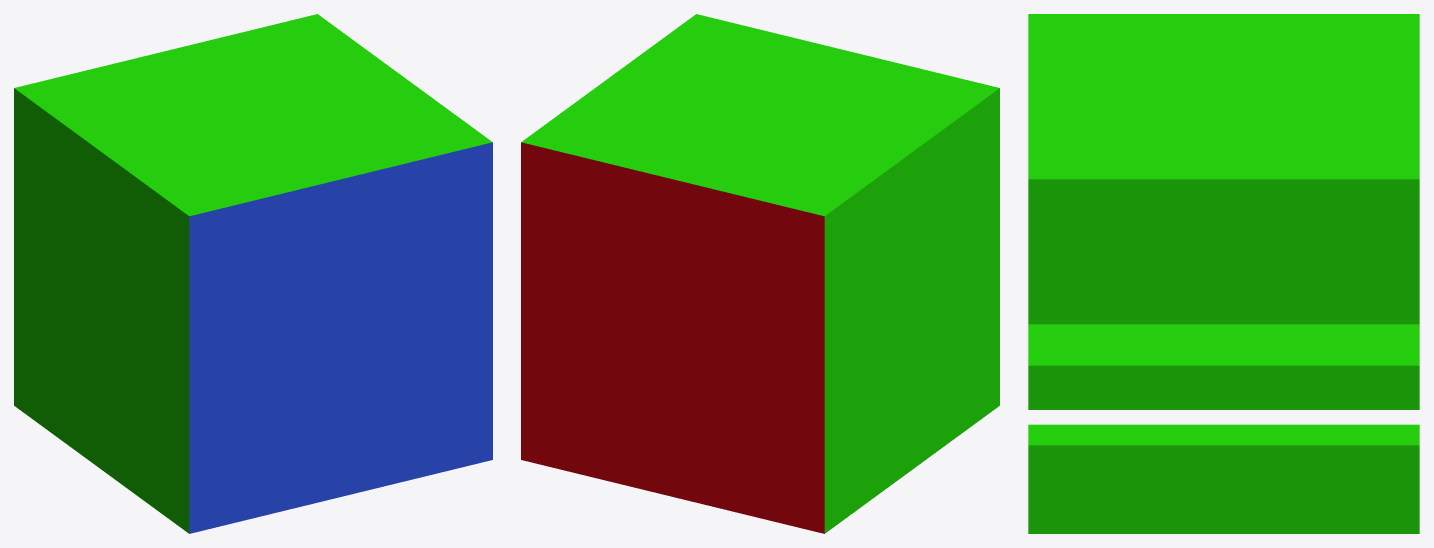
Rendered from Corridor_1U_Left.fbx.
The picture shows the model from 3 angles, left to right: view 1: azimuth 30°, elevation 25°; view 2: azimuth 150°, elevation 25°; view 3: azimuth 270°, elevation 25°; orthographic projection. The views are drawn at different scales.
Visible parts, largest first — view 1: Corridor 1U Left; view 2: Corridor 1U Left; view 3: Corridor 1U Left.
Boxes of the visible parts, left/top/right/bottom form: Corridor 1U Left: left=14, top=14, right=492, bottom=533; Corridor 1U Left: left=521, top=14, right=999, bottom=533; Corridor 1U Left: left=1028, top=14, right=1419, bottom=533.
Bounding box in the file's own units: 800 × 800 × 800.
